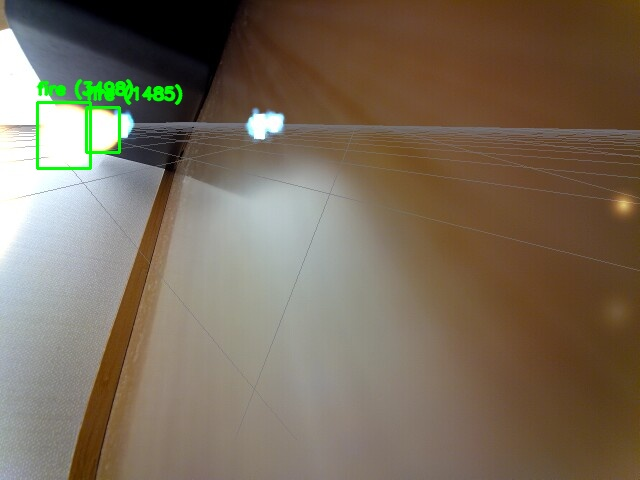fire: (37, 102, 90, 168), (86, 107, 119, 152)
